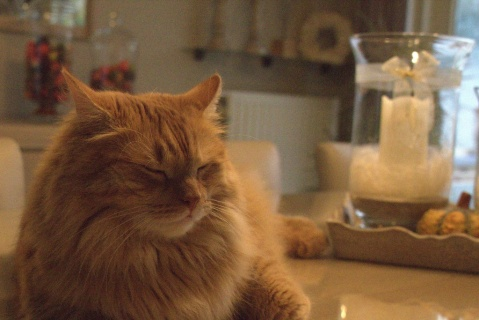Cat: (7, 67, 333, 319)
